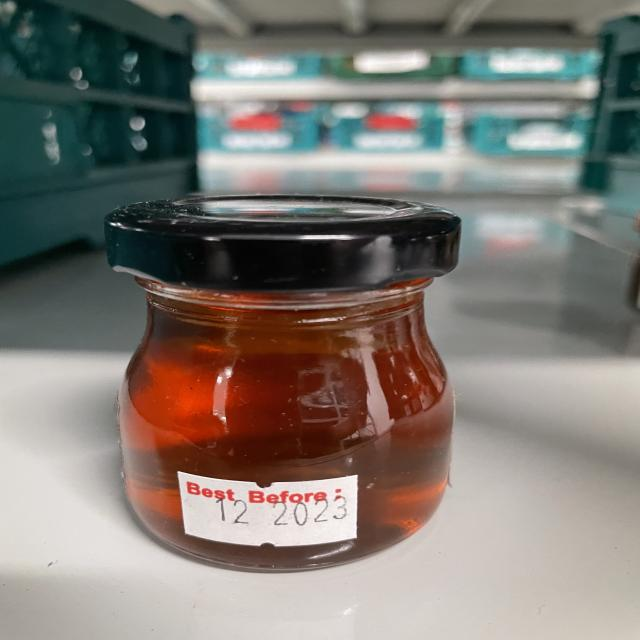object_name: (105, 198, 461, 574)
